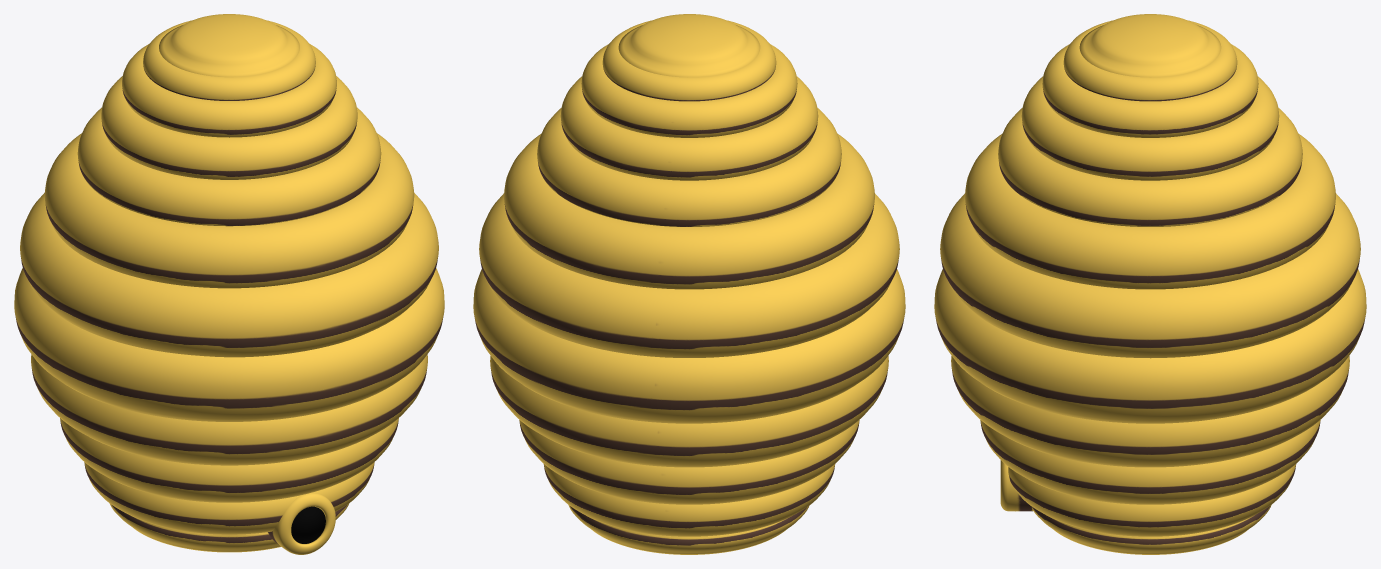
File: beehive.glb
3 renders of one model, left to right at view 1: azimuth 30°, elevation 25°; view 2: azimuth 150°, elevation 25°; view 3: azimuth 270°, elevation 25°, orthographic.
Visible parts, largest first — view 1: Object_2, Object_3; view 2: Object_2; view 3: Object_2.
Boxes of the visible parts, left/top/right/bottom form: Object_2: left=14, top=14, right=444, bottom=554; Object_3: left=291, top=506, right=325, bottom=543; Object_2: left=473, top=14, right=905, bottom=554; Object_2: left=934, top=14, right=1366, bottom=554.
Size of the model in its own units: 0.4295 by 0.5252 by 0.4295.
Materials: 2 (2 with a texture image).
